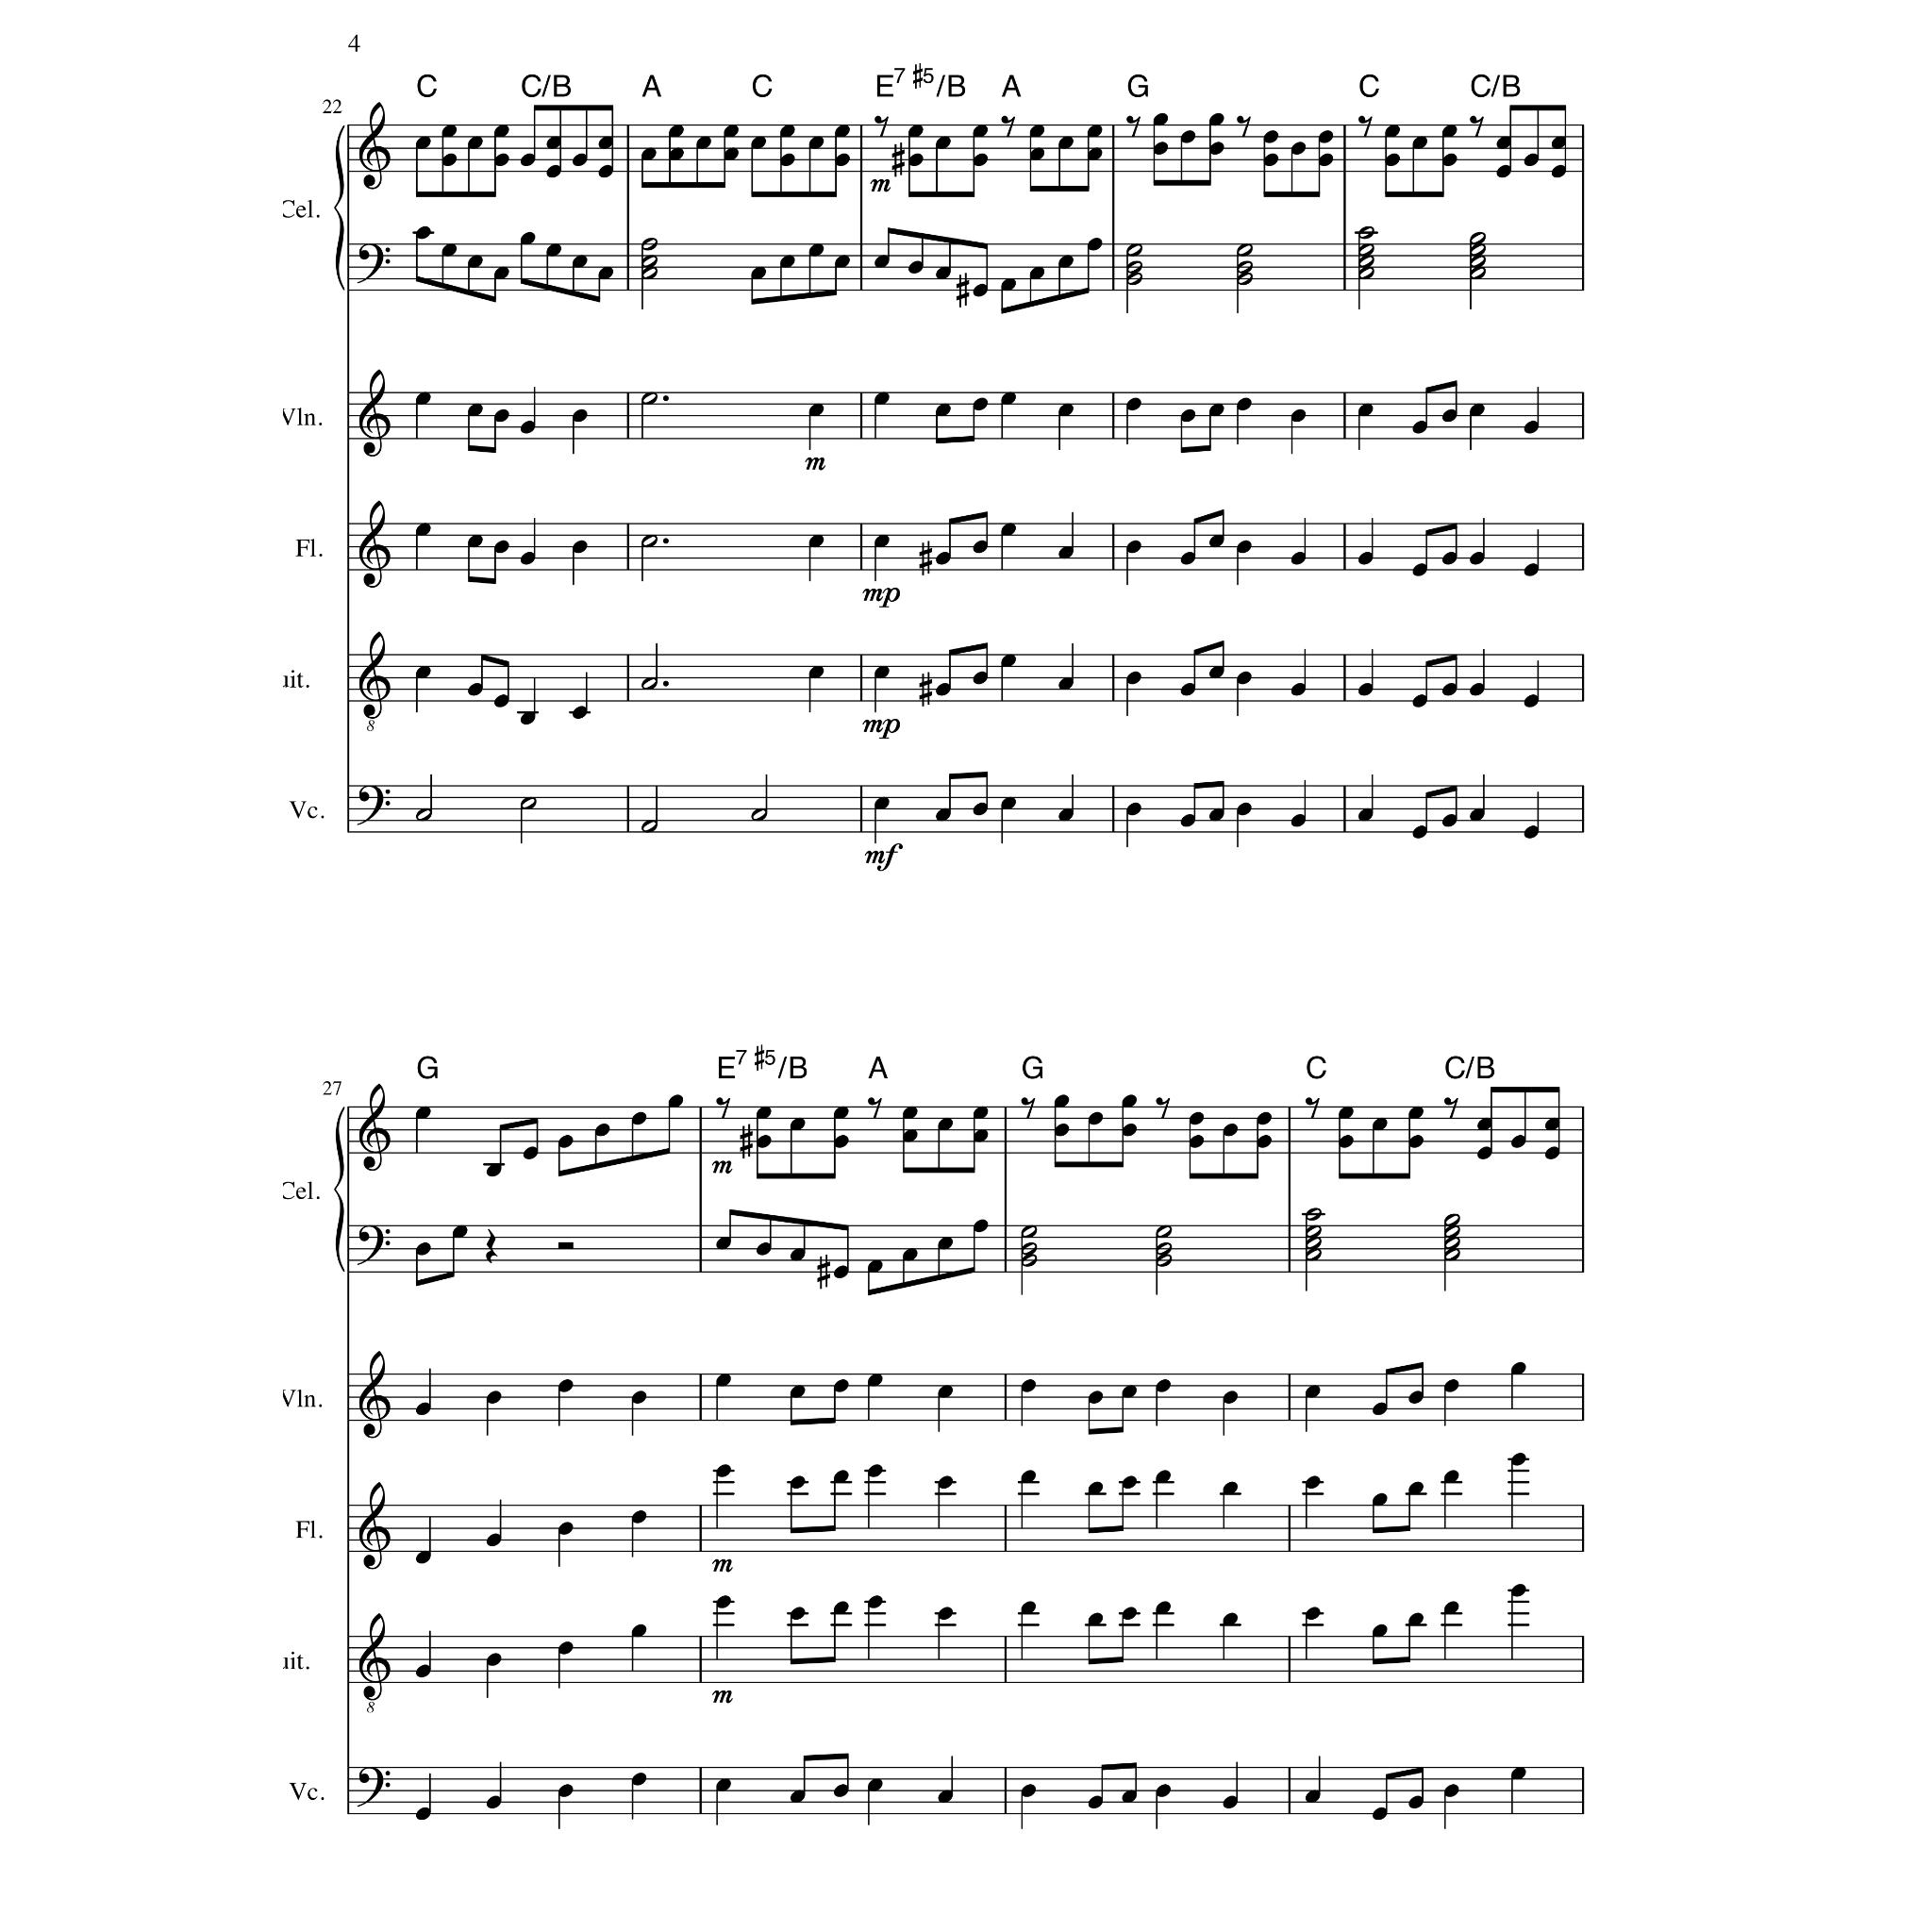brace: (333, 125, 344, 291), (333, 1107, 344, 1273)
fClef: (357, 785, 391, 826), (357, 243, 391, 285), (357, 1766, 391, 1807), (357, 1224, 391, 1266)
gClef: (358, 631, 391, 720), (358, 500, 391, 589), (358, 369, 391, 458), (358, 102, 391, 191), (358, 1350, 391, 1439), (358, 1481, 391, 1570), (358, 1612, 391, 1701), (358, 1083, 391, 1172)
noteheadBlack: (1207, 534, 1224, 549), (1262, 153, 1279, 168), (1000, 277, 1017, 292), (1523, 562, 1540, 577), (1523, 153, 1540, 168), (1441, 153, 1458, 168), (1411, 562, 1428, 577), (519, 153, 536, 168), (519, 711, 536, 726), (492, 153, 509, 168), (466, 534, 483, 549), (972, 153, 989, 168), (779, 153, 796, 168), (834, 153, 851, 168), (874, 534, 891, 549), (808, 534, 824, 549), (1155, 1600, 1172, 1615), (1443, 1600, 1460, 1615), (1372, 1402, 1389, 1417), (557, 1521, 574, 1536), (715, 1777, 732, 1792), (451, 1224, 468, 1240), (902, 1128, 919, 1143), (972, 1128, 989, 1143), (832, 1600, 849, 1615), (1318, 153, 1333, 168), (1385, 153, 1400, 168), (572, 153, 587, 168), (441, 153, 457, 168), (908, 153, 923, 168), (415, 1402, 430, 1417), (868, 1777, 883, 1792), (1021, 1600, 1036, 1615), (1207, 404, 1224, 417), (1207, 808, 1224, 822), (1207, 113, 1224, 126), (1207, 142, 1224, 156), (1000, 392, 1017, 406), (1000, 524, 1017, 537), (1207, 666, 1224, 679), (1262, 131, 1279, 144), (1236, 803, 1253, 816), (1236, 672, 1253, 685), (1236, 541, 1253, 554), (1236, 398, 1253, 411), (1028, 267, 1045, 280), (1028, 125, 1045, 138), (1028, 148, 1045, 161), (1000, 797, 1017, 810), (1000, 655, 1017, 668), (1523, 825, 1540, 839), (1523, 694, 1540, 708), (1523, 421, 1540, 434), (1468, 808, 1485, 822), (1468, 683, 1485, 696), (1468, 552, 1485, 565), (1468, 404, 1485, 417), (1441, 683, 1458, 696), (1441, 552, 1458, 565), (1441, 409, 1458, 423), (1441, 125, 1458, 138), (1441, 814, 1458, 827), (1411, 136, 1428, 149), (1411, 825, 1428, 839), (1411, 694, 1428, 708), (1411, 421, 1428, 434), (545, 243, 562, 257), (545, 136, 562, 149), (545, 165, 562, 178), (519, 421, 536, 434), (519, 232, 536, 245), (519, 552, 536, 565), (640, 148, 657, 161), (492, 694, 509, 708), (492, 541, 509, 554), (492, 409, 509, 423), (492, 267, 509, 280), (492, 125, 509, 138), (466, 404, 483, 417), (466, 683, 483, 696), (466, 256, 483, 269), (466, 136, 483, 149), (934, 267, 951, 280), (934, 136, 951, 149), (874, 797, 891, 810), (874, 666, 891, 679), (934, 404, 951, 417), (972, 803, 989, 816), (972, 672, 989, 685), (972, 541, 989, 554), (972, 398, 989, 411), (972, 284, 989, 297), (972, 125, 989, 138), (934, 808, 951, 822), (934, 683, 951, 696), (934, 552, 951, 565), (723, 125, 740, 138), (779, 125, 796, 138), (723, 148, 740, 161), (779, 256, 796, 269), (834, 125, 851, 138), (834, 256, 851, 269), (874, 392, 891, 406), (874, 256, 891, 269), (808, 136, 824, 149), (808, 243, 824, 257), (808, 404, 824, 417), (808, 666, 824, 679), (1155, 1470, 1172, 1483), (1155, 1379, 1172, 1392), (1155, 1784, 1172, 1797), (1053, 1124, 1070, 1137), (1053, 1094, 1070, 1108), (1121, 1124, 1138, 1137), (1121, 1094, 1138, 1108), (1121, 1385, 1138, 1398), (1121, 1475, 1138, 1489), (1121, 1607, 1138, 1620), (1121, 1790, 1138, 1803), (1087, 1112, 1104, 1125), (1087, 1391, 1104, 1404), (1087, 1481, 1104, 1494), (1087, 1612, 1104, 1625), (1087, 1796, 1104, 1809), (1509, 1584, 1526, 1597), (1475, 1147, 1492, 1160), (1475, 1118, 1492, 1131), (1509, 1135, 1526, 1148), (1509, 1362, 1526, 1375), (1509, 1453, 1526, 1466), (1509, 1767, 1526, 1780), (1443, 1379, 1460, 1392), (1443, 1470, 1460, 1483), (1443, 1784, 1460, 1797), (1338, 1135, 1355, 1148), (1338, 1107, 1355, 1120), (1372, 1118, 1389, 1131), (1372, 1493, 1389, 1507), (1372, 1624, 1389, 1638), (1372, 1807, 1389, 1821), (1407, 1796, 1424, 1809), (1407, 1135, 1424, 1148), (1407, 1107, 1424, 1120), (1407, 1391, 1424, 1404), (1407, 1481, 1424, 1494), (1407, 1612, 1424, 1625), (630, 1112, 647, 1125), (630, 1391, 647, 1404), (630, 1510, 647, 1524), (630, 1624, 647, 1638), (630, 1773, 647, 1786), (557, 1784, 574, 1797), (557, 1135, 574, 1148), (557, 1379, 574, 1392), (557, 1641, 574, 1655), (715, 1237, 732, 1250), (715, 1374, 732, 1387), (715, 1464, 732, 1477), (715, 1595, 732, 1608), (485, 1164, 502, 1177), (485, 1391, 502, 1404), (485, 1533, 502, 1546), (485, 1653, 502, 1666), (485, 1796, 502, 1809), (902, 1107, 919, 1120), (902, 1248, 919, 1261), (972, 1107, 989, 1120), (972, 1220, 989, 1233), (789, 1607, 806, 1620), (789, 1118, 806, 1131), (789, 1248, 806, 1261), (789, 1385, 806, 1398), (789, 1475, 806, 1489), (789, 1790, 806, 1803), (755, 1135, 772, 1148), (755, 1107, 772, 1120), (755, 1242, 772, 1256), (832, 1784, 849, 1797), (832, 1135, 849, 1148), (832, 1107, 849, 1120), (832, 1266, 849, 1279), (832, 1379, 849, 1392), (832, 1470, 849, 1483), (1153, 113, 1168, 126), (1180, 552, 1195, 565), (1180, 409, 1195, 423), (1180, 131, 1195, 144), (1180, 683, 1195, 696), (1153, 142, 1168, 156), (1180, 814, 1195, 827), (1291, 552, 1306, 565), (1291, 814, 1306, 827), (1291, 683, 1306, 696), (1291, 409, 1306, 423), (1291, 142, 1306, 156), (1087, 238, 1102, 251), (1087, 125, 1102, 138), (1087, 148, 1102, 161), (1058, 808, 1074, 822), (1058, 677, 1074, 691), (1058, 546, 1074, 559), (1058, 404, 1074, 417), (1058, 256, 1074, 269), (1058, 136, 1074, 149), (1126, 803, 1141, 816), (1126, 672, 1141, 685), (1126, 541, 1141, 554), (1126, 398, 1141, 411), (1496, 136, 1511, 149), (1496, 165, 1511, 178), (1551, 136, 1566, 149), (1551, 165, 1566, 178), (1318, 131, 1333, 144), (1357, 808, 1373, 822), (1357, 683, 1373, 696), (1357, 552, 1373, 565), (1357, 404, 1373, 417), (1385, 125, 1400, 138), (572, 706, 587, 719), (572, 541, 587, 554), (572, 409, 587, 423), (572, 256, 587, 269), (598, 267, 613, 280), (598, 136, 613, 149), (598, 165, 613, 178), (415, 226, 430, 240), (415, 136, 430, 149), (415, 392, 430, 406), (415, 666, 430, 679), (415, 524, 430, 537), (441, 243, 457, 257), (441, 125, 457, 138), (908, 261, 923, 275), (908, 125, 923, 138), (751, 267, 766, 280), (751, 136, 766, 149), (696, 136, 711, 149), (669, 125, 684, 138), (669, 148, 684, 161), (1223, 1796, 1238, 1809), (1223, 1612, 1238, 1625), (1223, 1481, 1238, 1494), (1189, 1135, 1204, 1148), (1189, 1112, 1204, 1125), (1223, 1391, 1238, 1404), (1223, 1124, 1238, 1137), (1306, 1385, 1321, 1398), (1306, 1475, 1321, 1489), (1306, 1607, 1321, 1620), (1306, 1790, 1321, 1803), (1257, 1135, 1272, 1148), (1257, 1112, 1272, 1125), (1544, 1147, 1559, 1160), (1544, 1118, 1559, 1131), (594, 1124, 609, 1137), (523, 1147, 538, 1160), (668, 1094, 683, 1108), (415, 1107, 430, 1120), (415, 1242, 430, 1256), (415, 1551, 430, 1564), (415, 1664, 430, 1677), (415, 1807, 430, 1821), (868, 1259, 883, 1273), (868, 1374, 883, 1387), (868, 1464, 883, 1477), (868, 1595, 883, 1608), (1021, 1379, 1036, 1392), (1021, 1470, 1036, 1483), (1021, 1784, 1036, 1797), (938, 1118, 953, 1131), (938, 1237, 953, 1250), (938, 1385, 953, 1398), (938, 1475, 953, 1489), (938, 1607, 953, 1620), (938, 1790, 953, 1803)
noteheadHalf: (1236, 243, 1253, 257), (1236, 261, 1253, 275), (1236, 273, 1253, 286), (1125, 243, 1142, 257), (1125, 261, 1142, 275), (1125, 273, 1142, 286), (1469, 232, 1486, 245), (1469, 243, 1486, 257), (1469, 256, 1486, 269), (1469, 267, 1486, 280), (1357, 243, 1374, 257), (1357, 226, 1374, 240), (1357, 256, 1374, 269), (1357, 267, 1374, 280), (520, 797, 537, 810), (641, 820, 658, 833), (641, 677, 658, 691), (641, 535, 658, 548), (641, 392, 658, 406), (641, 239, 658, 252), (641, 256, 658, 269), (641, 267, 658, 280), (415, 808, 432, 822), (751, 808, 768, 822), (1155, 1254, 1172, 1267), (1155, 1242, 1172, 1256), (1155, 1225, 1172, 1239), (1305, 1248, 1322, 1261), (1305, 1237, 1322, 1250), (1305, 1225, 1322, 1239), (1305, 1207, 1322, 1221), (1443, 1237, 1460, 1250), (1443, 1225, 1460, 1239), (1443, 1214, 1460, 1227), (1443, 1248, 1460, 1261), (1021, 1254, 1038, 1267), (1021, 1242, 1038, 1256), (1021, 1225, 1038, 1239)
rest8th: (1236, 116, 1251, 139), (1001, 116, 1016, 139), (1125, 116, 1141, 139), (1469, 116, 1484, 139), (1357, 116, 1373, 139), (874, 116, 889, 139), (1155, 1097, 1170, 1120), (1305, 1097, 1320, 1120), (1443, 1097, 1458, 1120), (715, 1097, 730, 1120), (867, 1097, 882, 1120), (1021, 1097, 1036, 1120)
restHalf: (557, 1241, 574, 1249)
restQuarter: (485, 1228, 498, 1264)
